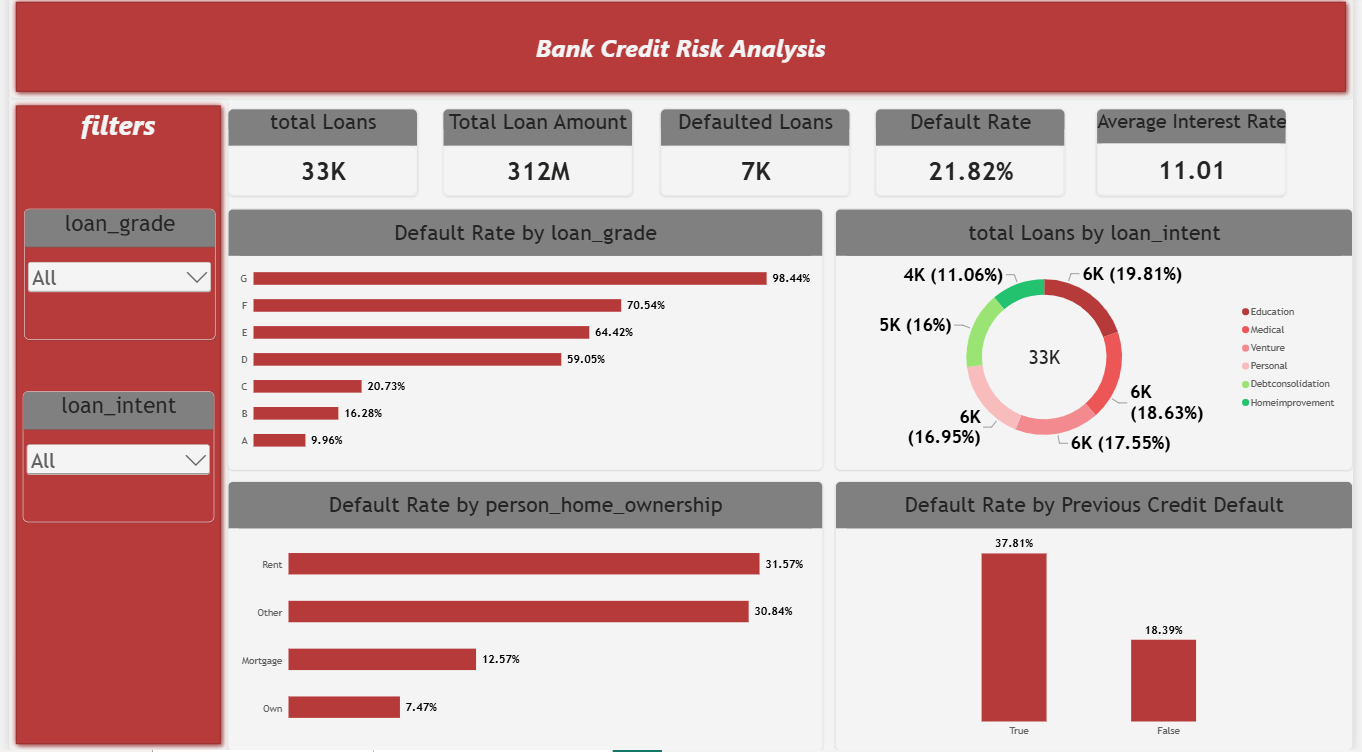

What the dashboard file says about the page in this screenshot:
{"tool":"powerbi","page":{"name":"Bank Credit Risk Analysis","canvas":[1920,1080],"ordinal":0},"visuals":[{"type":"shape","box":[0,0,1919.7,148.2],"z":0},{"type":"shape","box":[0,148.2,312.5,932.1],"z":1000},{"type":"cardVisual","title":"total Loans","fields":{"Data":["credit_risk_dataset.total Loans"]},"box":[312.5,162.5,271.4,125],"z":2000},{"type":"cardVisual","title":"Total Loan Amount","fields":{"Data":["credit_risk_dataset.Total Loan Amount"]},"box":[619.6,162.5,271.4,125],"z":3000},{"type":"cardVisual","title":"Defaulted Loans","fields":{"Data":["credit_risk_dataset.Defaulted Loans"]},"box":[930.4,162.5,271.4,125],"z":4000},{"type":"cardVisual","title":"Default Rate","fields":{"Data":["credit_risk_dataset.Default Rate"]},"box":[1237.5,162.5,271.4,125],"z":5000},{"type":"cardVisual","title":"Average Interest Rate","fields":{"Data":["credit_risk_dataset.Average Interest Rate"]},"box":[1553.6,162.5,271.4,125],"z":6000},{"type":"clusteredBarChart","fields":{"Category":["credit_risk_dataset.loan_grade"],"Y":["credit_risk_dataset.Default Rate"]},"box":[312.5,305.4,850,373.2],"z":7000},{"type":"barChart","fields":{"Category":["credit_risk_dataset.person_home_ownership"],"Y":["credit_risk_dataset.Default Rate"]},"box":[312.5,694.6,850,385.7],"z":8000},{"type":"donutChart","fields":{"Category":["credit_risk_dataset.loan_intent"],"Y":["credit_risk_dataset.total Loans"]},"box":[1180.4,305.4,739.3,373.2],"z":9000},{"type":"clusteredColumnChart","title":"Default Rate by Previous Credit Default","fields":{"Category":["credit_risk_dataset.cb_person_default_on_file"],"Y":["credit_risk_dataset.Default Rate"]},"box":[1180,695,739,385],"z":9001},{"type":"slicer","title":"loan_grade","fields":{"Values":["credit_risk_dataset.loan_grade"]},"box":[21.4,305.4,273.2,187.5],"z":9002},{"type":"slicer","title":"loan_intent","fields":{"Values":["credit_risk_dataset.loan_intent"]},"box":[19.6,566.1,273.2,187.5],"z":9003}]}

Visuals, with their boxes in screenshot pixels (x1, y1, x2, y2), scaled from the page's 1920x1080 canvas onto the 1362x752 screenshot:
shape: rect(0, 0, 1361, 103)
shape: rect(0, 103, 222, 751)
"total Loans" cardVisual: rect(222, 113, 414, 200)
"Total Loan Amount" cardVisual: rect(440, 113, 632, 200)
"Defaulted Loans" cardVisual: rect(660, 113, 853, 200)
"Default Rate" cardVisual: rect(878, 113, 1070, 200)
"Average Interest Rate" cardVisual: rect(1102, 113, 1295, 200)
clusteredBarChart - credit_risk_dataset.loan_grade x credit_risk_dataset.Default Rate: rect(222, 213, 825, 473)
barChart - credit_risk_dataset.person_home_ownership x credit_risk_dataset.Default Rate: rect(222, 484, 825, 751)
donutChart - credit_risk_dataset.loan_intent x credit_risk_dataset.total Loans: rect(837, 213, 1361, 473)
"Default Rate by Previous Credit Default" clusteredColumnChart: rect(837, 484, 1361, 751)
"loan_grade" slicer: rect(15, 213, 209, 343)
"loan_intent" slicer: rect(14, 394, 208, 525)
